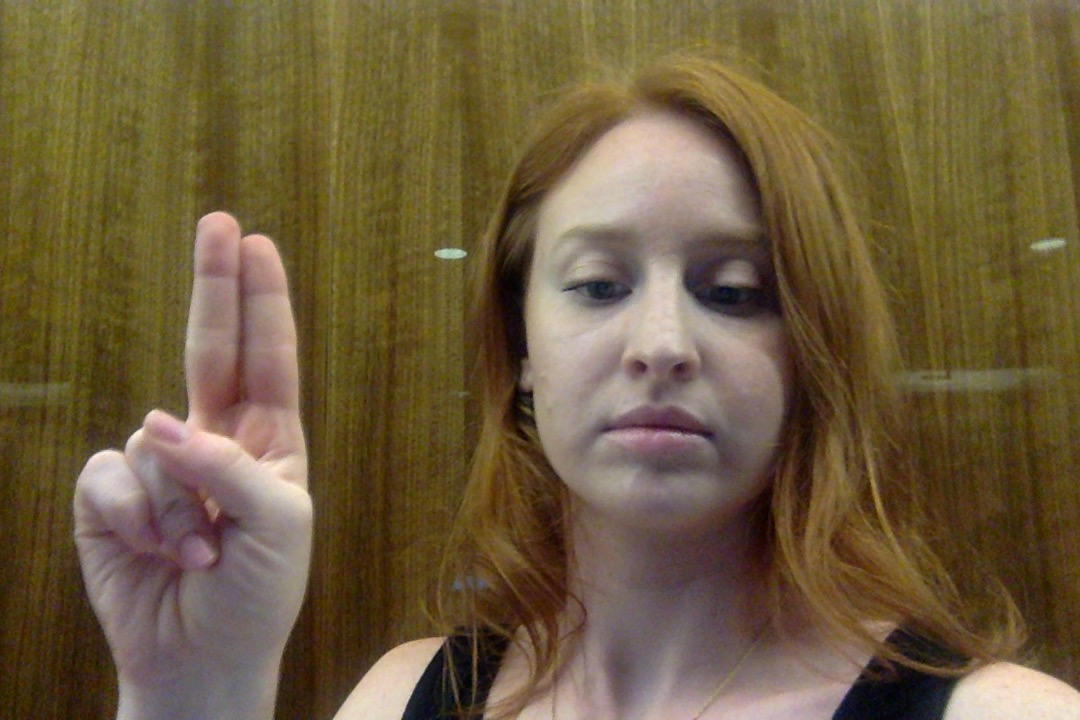u: (67, 206, 320, 656)
